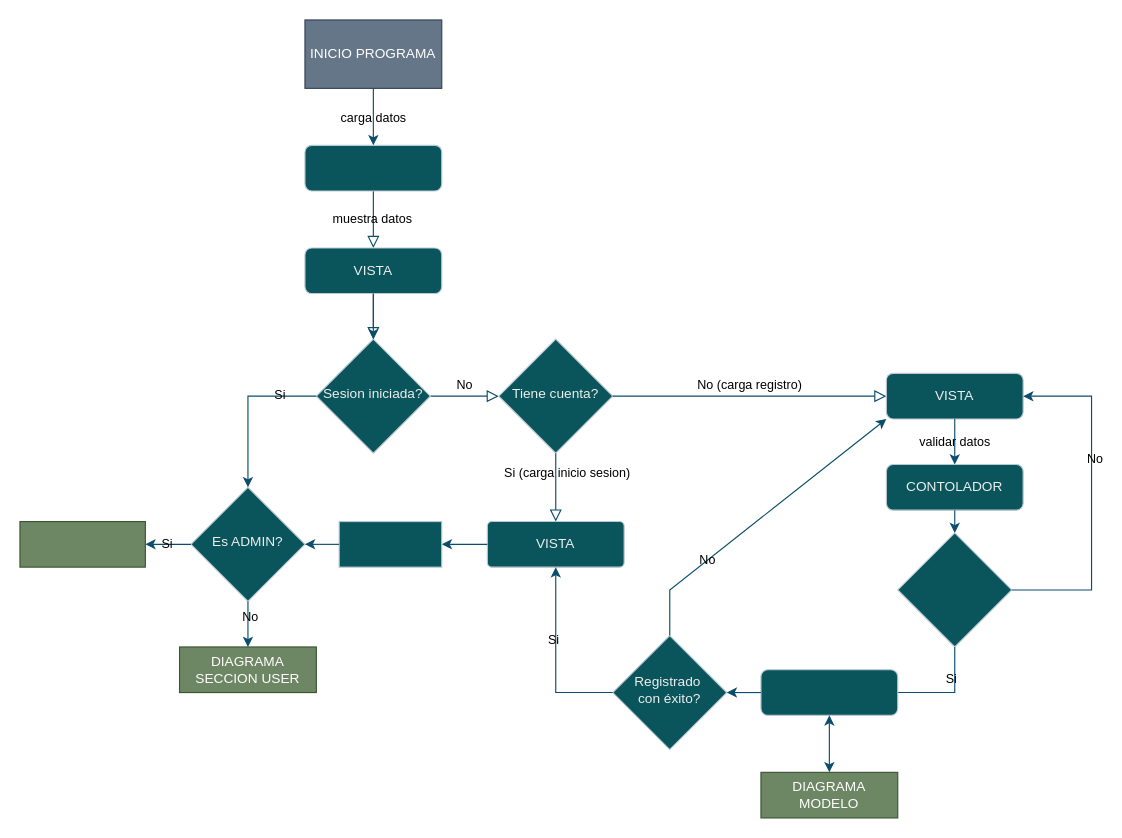
Image size: 1122x838. Some labels were removed from this diagram. The shapes that lost their labels are listed below. From the top down, each one's box as (x1, y1, x2, y2) in pixels, then its label:
(304, 144, 442, 191): CONTROL
(19, 520, 145, 567): DIAGRAMA SECCION ADMIN
(338, 520, 442, 567): DIAGRAMA INICIO SESION
(897, 532, 1012, 647): Datos validos?
(760, 669, 898, 715): MODELO
